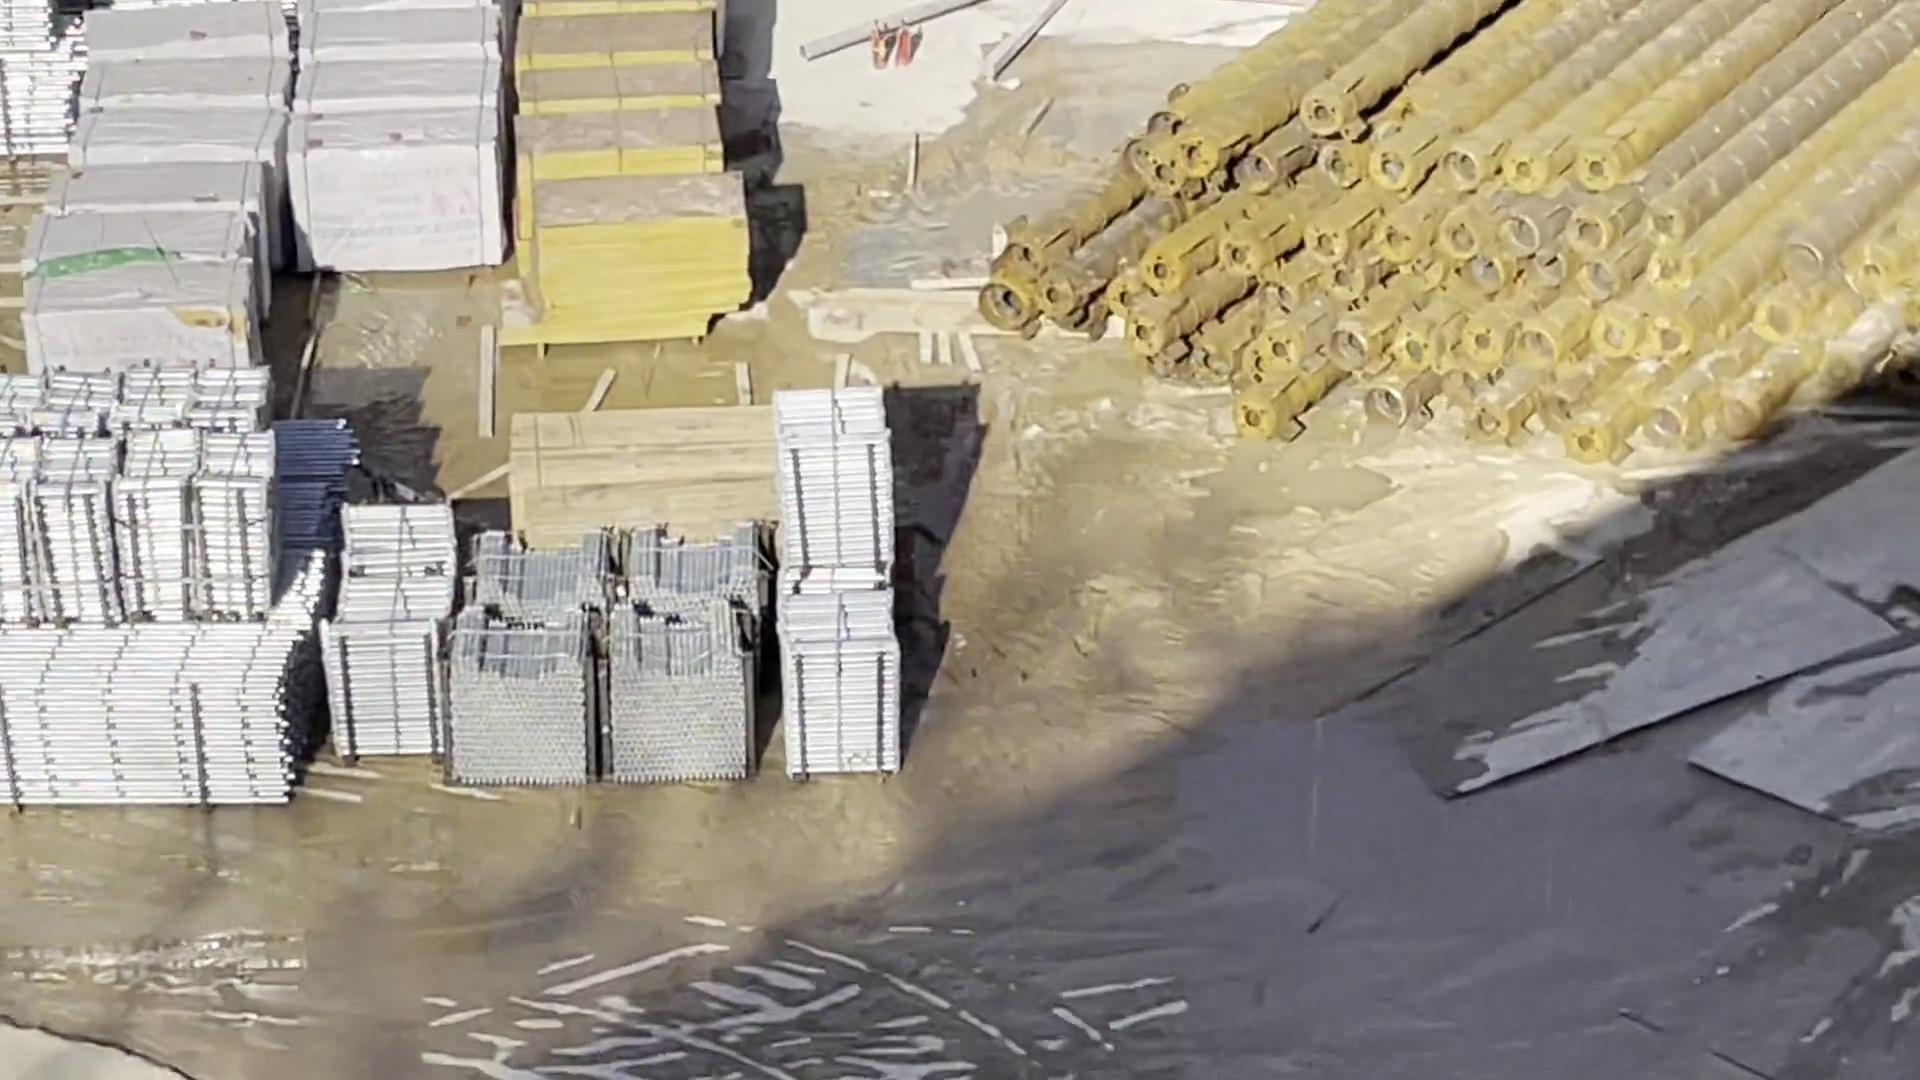board: (506, 1, 742, 342), (508, 407, 775, 531)
scaffold: (454, 530, 758, 781), (1, 367, 291, 624), (1, 615, 305, 812), (770, 385, 909, 769), (315, 506, 451, 761)
